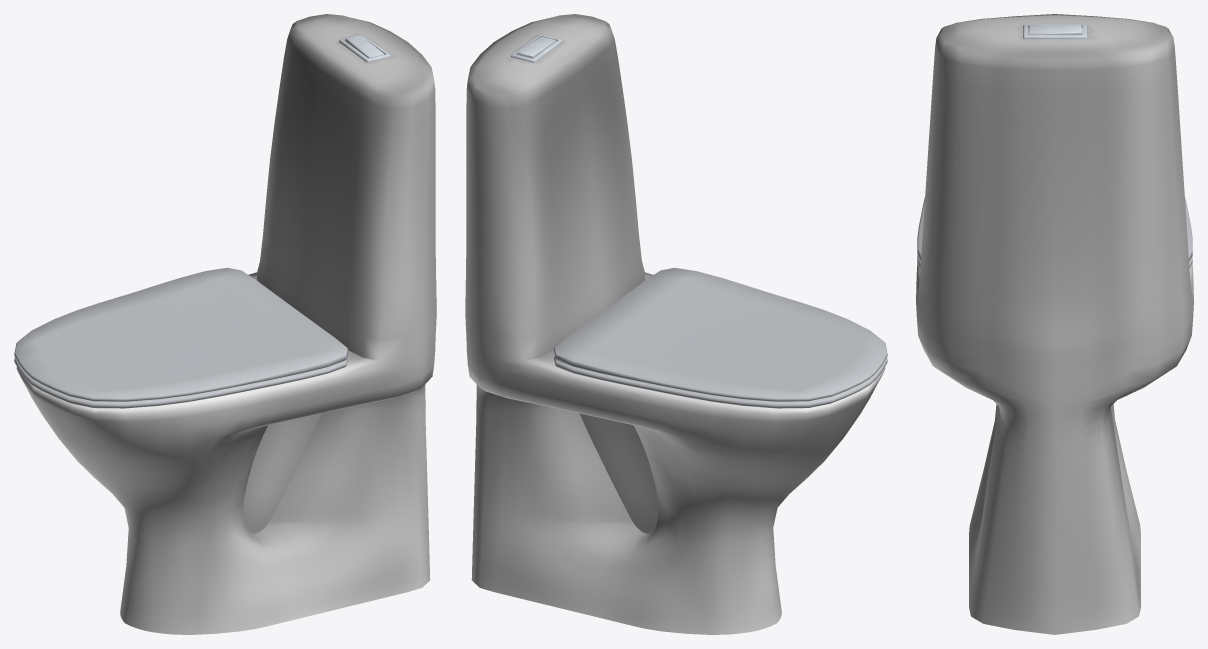
Rendered from SM_Toilet.fbx.
The picture shows the model from 3 angles, left to right: view 1: azimuth 30°, elevation 25°; view 2: azimuth 150°, elevation 25°; view 3: azimuth 270°, elevation 25°; orthographic projection. The views are drawn at different scales.
Parts seen in each view (by area): view 1: SM_Toilet; view 2: SM_Toilet; view 3: SM_Toilet.
Part boxes in pixels (box(x1,y1,x2,y2)): SM_Toilet: box(14, 14, 436, 634); SM_Toilet: box(465, 14, 887, 634); SM_Toilet: box(916, 14, 1193, 634).
Bounding box in the file's own units: 65.15 × 83.66 × 36.46.
Materials: 1 (1 with a texture image).
